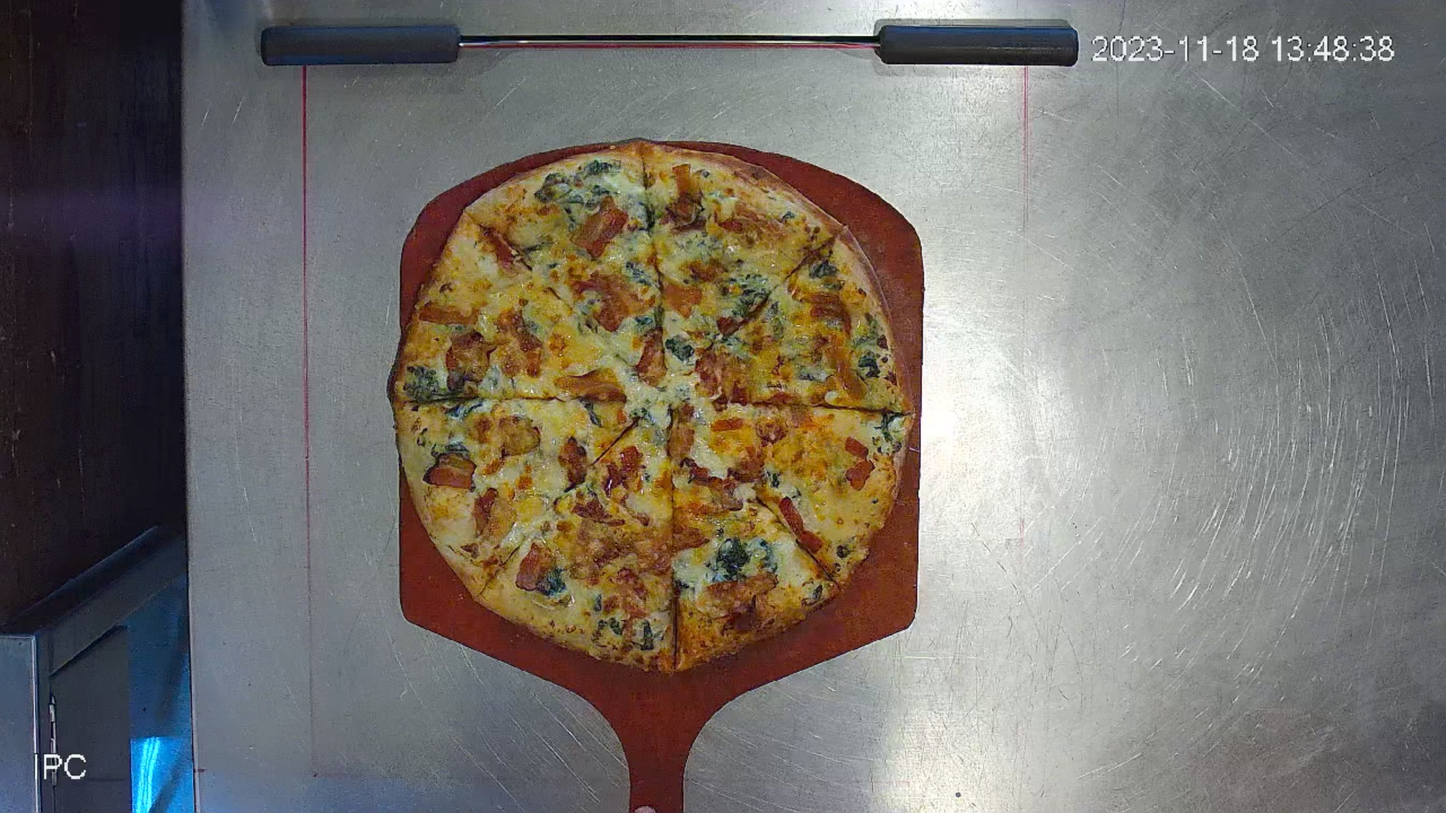pepporoni: (384, 140, 916, 675)
